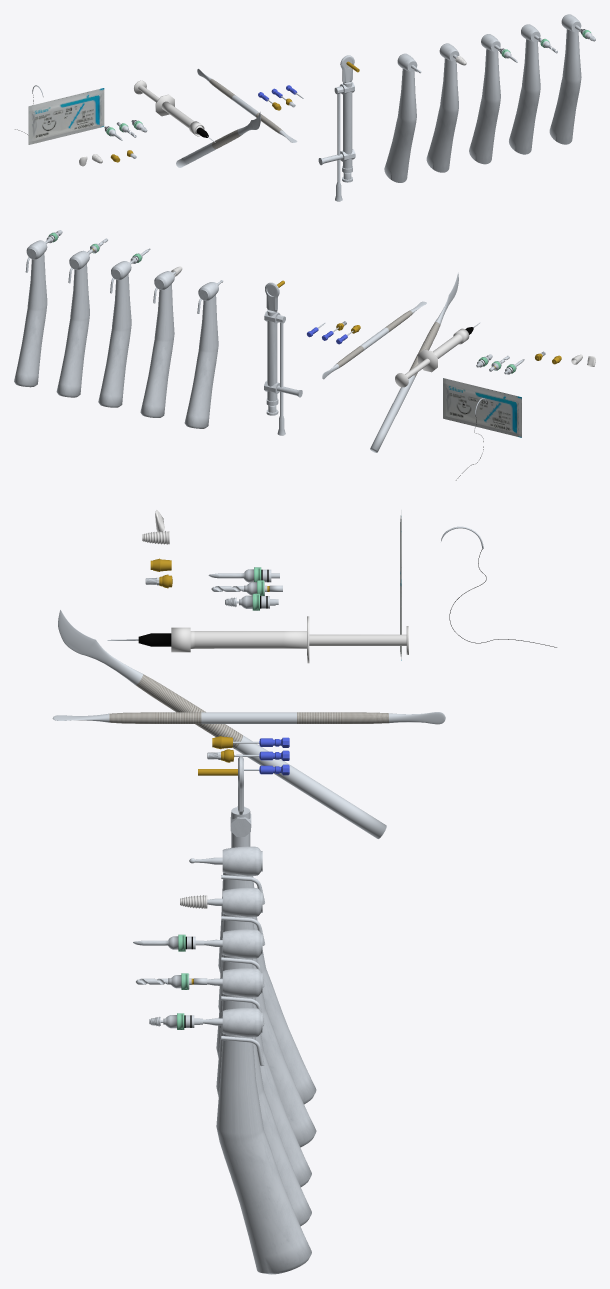
Rendered from Tools.fbx.
The picture shows the model from 3 angles, top to bottom: view 1: azimuth 30°, elevation 25°; view 2: azimuth 150°, elevation 25°; view 3: azimuth 270°, elevation 25°; orthographic projection. The views are drawn at different scales.
Visible parts, largest first — view 1: NeedleWrapping.001, Handpiece.001, HandpieceWithDrill4.001, HandpieceWithDrill2.001, HandpieceWithDrill3.001, HandpieceWithFixture.001, TorqueRatchet.001, Scalpel.001, Syringe.001, Elevator.001; view 2: NeedleWrapping.001, Handpiece.001, HandpieceWithFixture.001, HandpieceWithDrill4.001, HandpieceWithDrill2.001, HandpieceWithDrill3.001, TorqueRatchet.001, Scalpel.001, Syringe.001, Elevator.001, SyringeA; view 3: HandpieceWithDrill4.001, Scalpel.001, HandpieceWithFixture.001, Elevator.001, Handpiece.001, HandpieceWithDrill3.001, HandpieceWithDrill2.001, Syringe.001, TorqueRatchet.001, SyringeA.
Boxes of the visible parts, x1,y1,x2,y2 form: NeedleWrapping.001: (28,88,104,144); Handpiece.001: (384,53,421,182); HandpieceWithDrill4.001: (549,14,581,144); HandpieceWithDrill2.001: (469,34,500,164); HandpieceWithDrill3.001: (509,24,540,154); HandpieceWithFixture.001: (426,43,459,172); TorqueRatchet.001: (318,55,359,201); Scalpel.001: (176,112,260,167); Syringe.001: (155,94,215,142); Elevator.001: (197,68,297,142); NeedleWrapping.001: (443,378,521,437); Handpiece.001: (184,280,223,428); HandpieceWithFixture.001: (140,271,175,417); HandpieceWithDrill4.001: (14,240,47,387); HandpieceWithDrill2.001: (98,261,131,407); HandpieceWithDrill3.001: (56,250,89,397); TorqueRatchet.001: (264,280,302,435); Scalpel.001: (370,272,458,452); Syringe.001: (417,322,480,372); Elevator.001: (322,301,426,379); SyringeA: (395,358,430,387); HandpieceWithDrill4.001: (203,1007,311,1274); Scalpel.001: (58,610,386,838); HandpieceWithFixture.001: (207,887,316,1147); Elevator.001: (52,712,445,724); Handpiece.001: (189,846,316,1104); HandpieceWithDrill3.001: (207,968,311,1226); HandpieceWithDrill2.001: (204,929,311,1186); Syringe.001: (107,616,309,663); TorqueRatchet.001: (198,756,251,847); SyringeA: (309,626,408,654).
Size of the model in its own units: 88.34 by 25.39 by 37.01.
